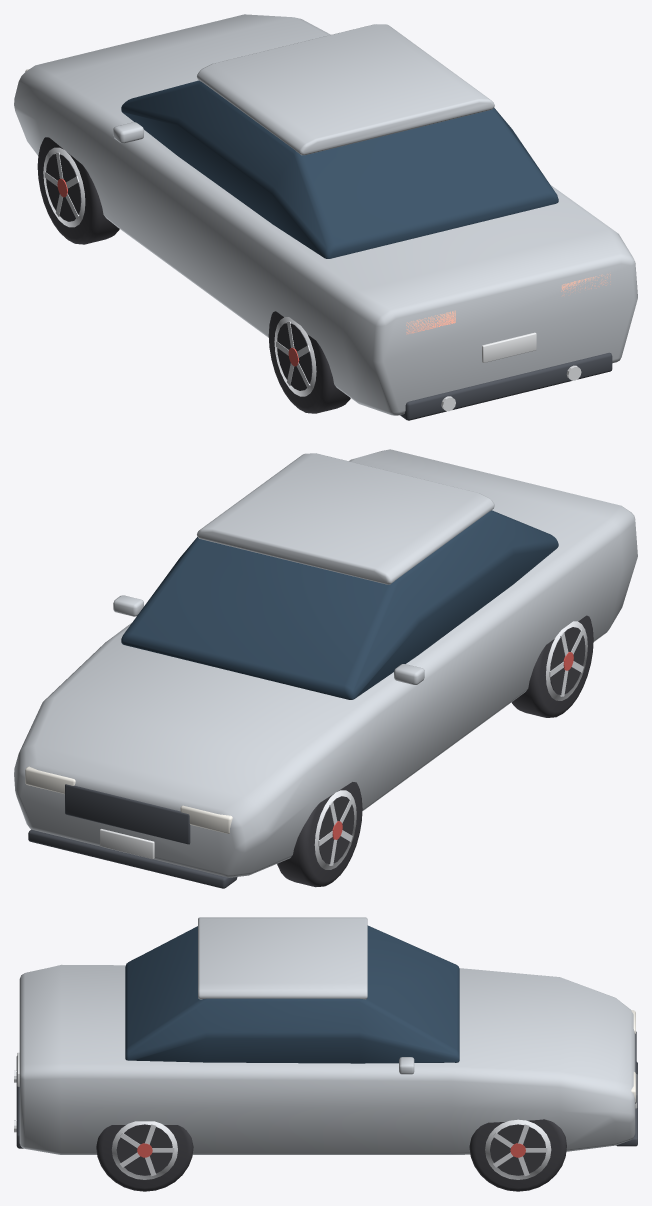
The model's file is Car_CitySedan.fbx.
3 renders of one model, top to bottom at view 1: azimuth 30°, elevation 25°; view 2: azimuth 150°, elevation 25°; view 3: azimuth 270°, elevation 25°, orthographic. The views are drawn at different scales.
Parts seen in each view (by area): view 1: Car_Body, Wheel_FL, Wheel_RL; view 2: Car_Body, Wheel_FL, Wheel_RL; view 3: Car_Body, Wheel_FR, Wheel_RR.
Part boxes in pixels (left/top/right/bottom): Car_Body: left=14, top=14, right=637, bottom=420; Wheel_FL: left=37, top=137, right=119, bottom=244; Wheel_RL: left=268, top=311, right=350, bottom=413; Car_Body: left=14, top=449, right=637, bottom=888; Wheel_FL: left=277, top=782, right=362, bottom=887; Wheel_RL: left=511, top=615, right=593, bottom=717; Car_Body: left=14, top=917, right=637, bottom=1154; Wheel_FR: left=469, top=1119, right=566, bottom=1191; Wheel_RR: left=96, top=1121, right=193, bottom=1191.
Bounding box in the file's own units: 2.04 × 1.5 × 4.48.
